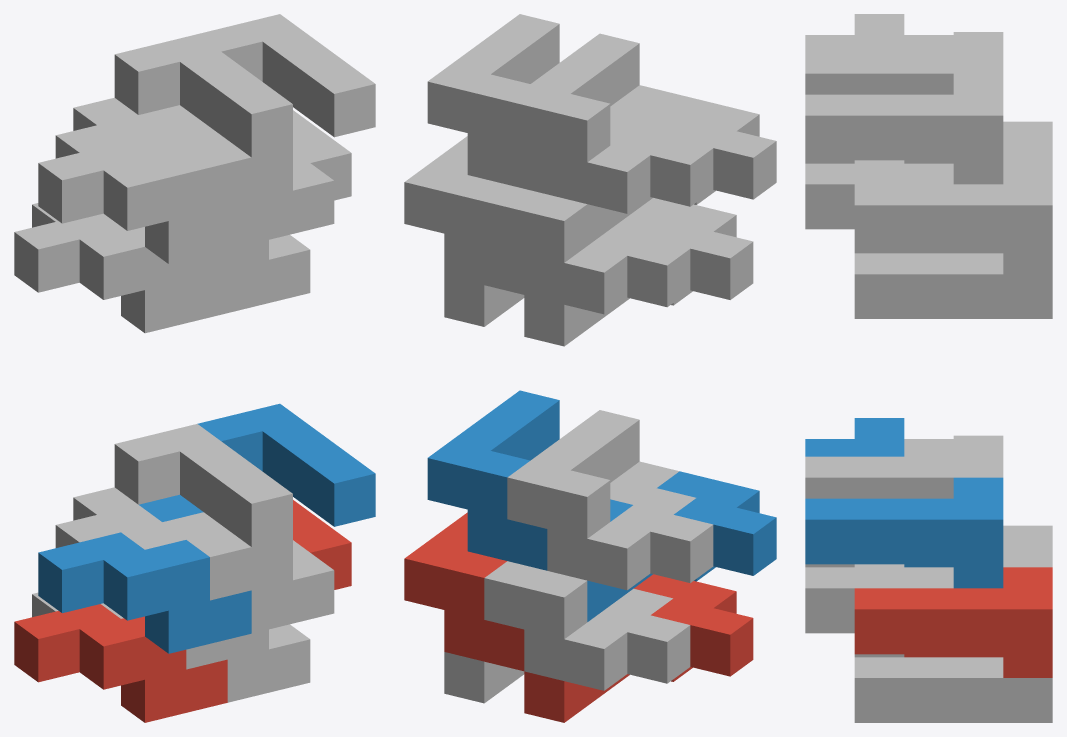
File: tiling.obj
3 renders of one model, left to right at view 1: azimuth 30°, elevation 25°; view 2: azimuth 150°, elevation 25°; view 3: azimuth 270°, elevation 25°, orthographic. The views are drawn at different scales.
Visible parts, largest first — view 1: copy_2_domain_4, copy_2_domain_2, copy_1_domain_2, copy_1_domain_4, copy_1_domain_3, copy_1_domain_1, copy_2_domain_6, copy_2_domain_8, copy_1_domain_6, copy_1_domain_8, copy_1_domain_7, copy_1_domain_5 (+2 smaller); view 2: copy_2_domain_2, copy_2_domain_4, copy_2_domain_1, copy_2_domain_3, copy_2_domain_6, copy_2_domain_8, copy_2_domain_5, copy_2_domain_7, copy_1_domain_1, copy_1_domain_3, copy_1_domain_2, copy_1_domain_4 (+4 smaller); view 3: copy_2_domain_6, copy_2_domain_8, copy_2_domain_7, copy_2_domain_5, copy_1_domain_5, copy_1_domain_7, copy_2_domain_2, copy_2_domain_4, copy_1_domain_6, copy_1_domain_8, copy_1_domain_2, copy_1_domain_4 (+2 smaller).
Boxes of the visible parts, <box> form: copy_2_domain_4: <box>55,34,292,158</box>; copy_2_domain_2: <box>55,424,292,547</box>; copy_1_domain_2: <box>38,532,251,653</box>; copy_1_domain_4: <box>38,143,251,263</box>; copy_1_domain_3: <box>14,214,227,333</box>; copy_1_domain_1: <box>14,604,227,722</box>; copy_2_domain_6: <box>139,403,375,526</box>; copy_2_domain_8: <box>139,14,375,137</box>; copy_1_domain_6: <box>121,512,334,633</box>; copy_1_domain_8: <box>121,122,334,243</box>; copy_1_domain_7: <box>101,213,310,312</box>; copy_1_domain_5: <box>101,603,310,702</box>; copy_2_domain_2: <box>507,410,713,590</box>; copy_2_domain_4: <box>507,33,713,213</box>; copy_2_domain_1: <box>484,561,690,690</box>; copy_2_domain_3: <box>484,184,690,314</box>; copy_2_domain_6: <box>427,390,632,570</box>; copy_2_domain_8: <box>427,14,632,194</box>; copy_2_domain_5: <box>404,512,524,671</box>; copy_2_domain_7: <box>404,136,524,294</box>; copy_1_domain_1: <box>524,574,753,722</box>; copy_1_domain_3: <box>524,198,753,346</box>; copy_1_domain_2: <box>587,471,776,621</box>; copy_1_domain_4: <box>587,95,776,245</box>; copy_2_domain_6: <box>805,477,1003,588</box>; copy_2_domain_8: <box>805,73,1003,184</box>; copy_2_domain_7: <box>854,163,1052,274</box>; copy_2_domain_5: <box>854,567,1052,677</box>; copy_1_domain_5: <box>854,654,1052,722</box>; copy_1_domain_7: <box>854,250,1052,318</box>; copy_2_domain_2: <box>805,435,1003,498</box>; copy_2_domain_4: <box>805,32,1003,94</box>; copy_1_domain_6: <box>805,564,953,633</box>; copy_1_domain_8: <box>805,160,953,229</box>; copy_1_domain_2: <box>805,418,904,456</box>; copy_1_domain_4: <box>805,14,904,52</box>.
Size of the model in its own units: 7 by 14 by 5.
